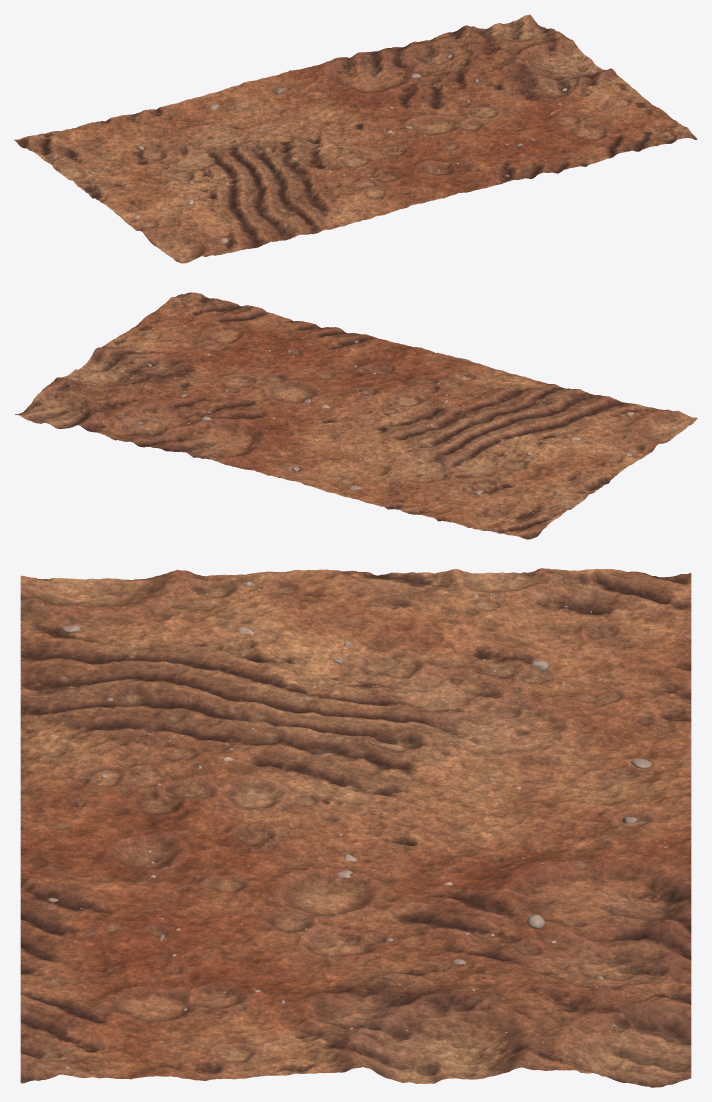
The model's file is mars_terrain_16x9_lite.glb.
3 views of the same model, one above another, from view 1: azimuth 30°, elevation 25°; view 2: azimuth 150°, elevation 25°; view 3: azimuth 270°, elevation 25° (orthographic). The views are drawn at different scales.
Visible parts, largest first — view 1: MarsTerrain, Boulders; view 2: MarsTerrain, Boulders; view 3: MarsTerrain, Boulders.
Part boxes in pixels (<box>): MarsTerrain: <box>14,14,697,263</box>; Boulders: <box>58,29,678,249</box>; MarsTerrain: <box>15,292,697,539</box>; Boulders: <box>78,301,658,523</box>; MarsTerrain: <box>20,568,691,1087</box>; Boulders: <box>40,579,673,1069</box>.
Size of the model in its own units: 160 by 4.71 by 90.
2 materials, 1 textured.
